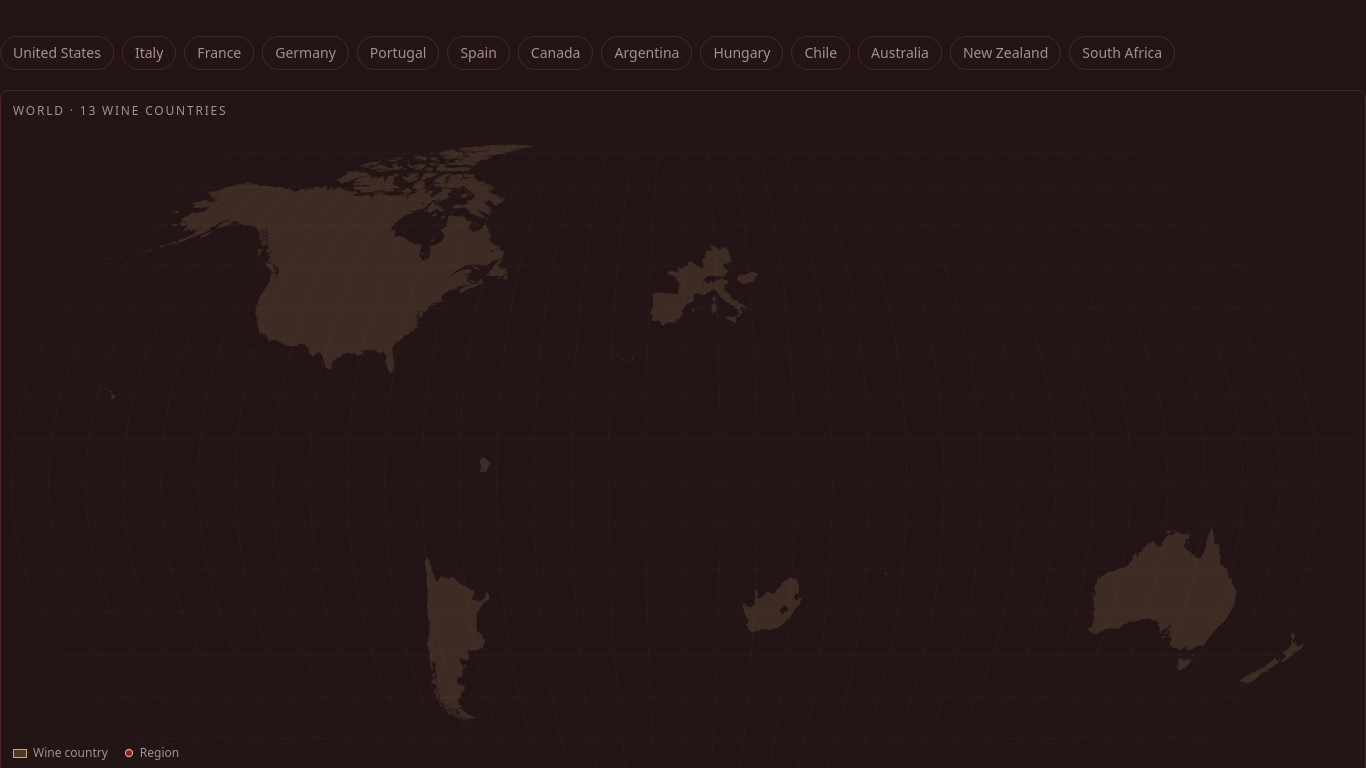
Test case: RegionsChapter › opens a region from the drawer list and steps back with Escape
Step 1. Click the button "France" → (219, 53), box [184, 36, 254, 70]
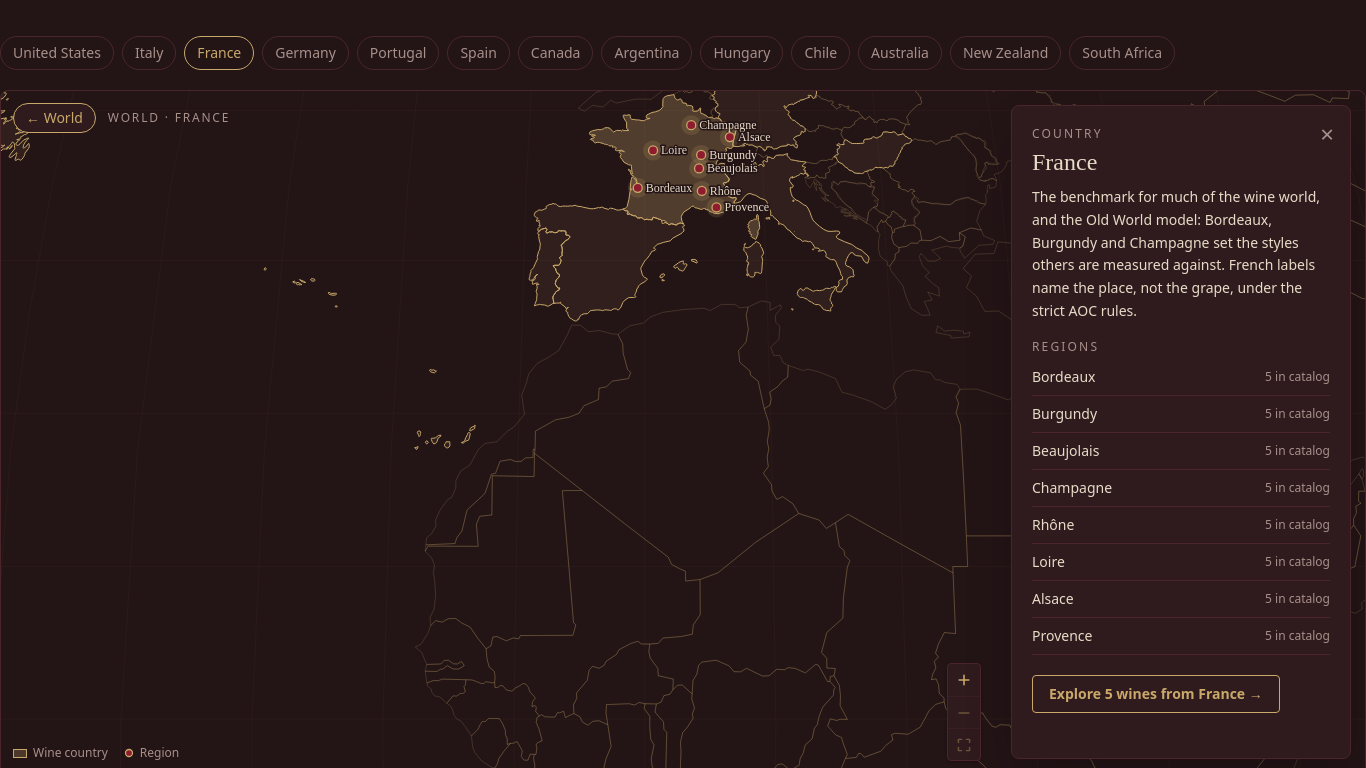
Step 2. Click the button "Bordeaux 5 in catalog" → (1064, 376), box [1032, 358, 1330, 394]
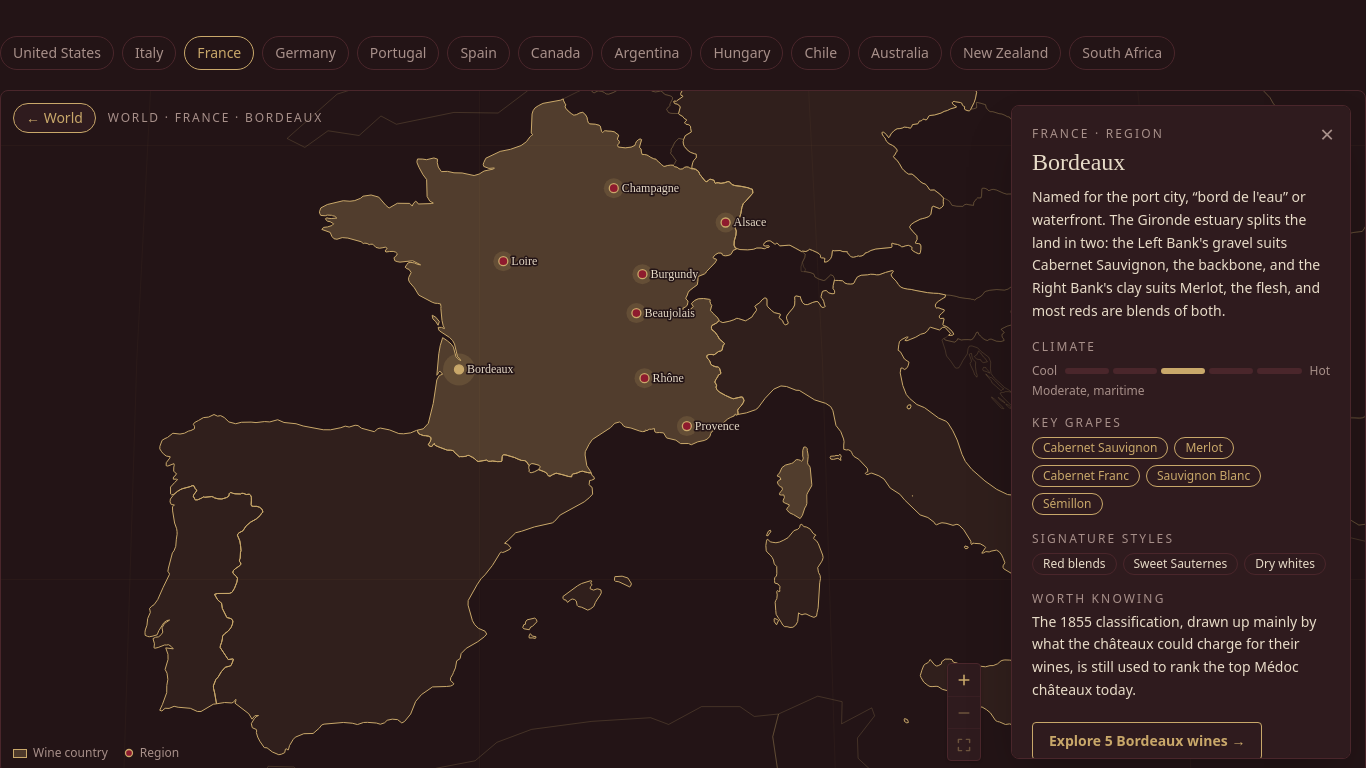
expect the element named "Bordeaux details" is shown: met, box [1011, 105, 1351, 759]
expect the text with test id "map-breadcrumb" reads "World · France · Bordeaux": met, box [108, 109, 323, 126]
Step 3. Press Escape
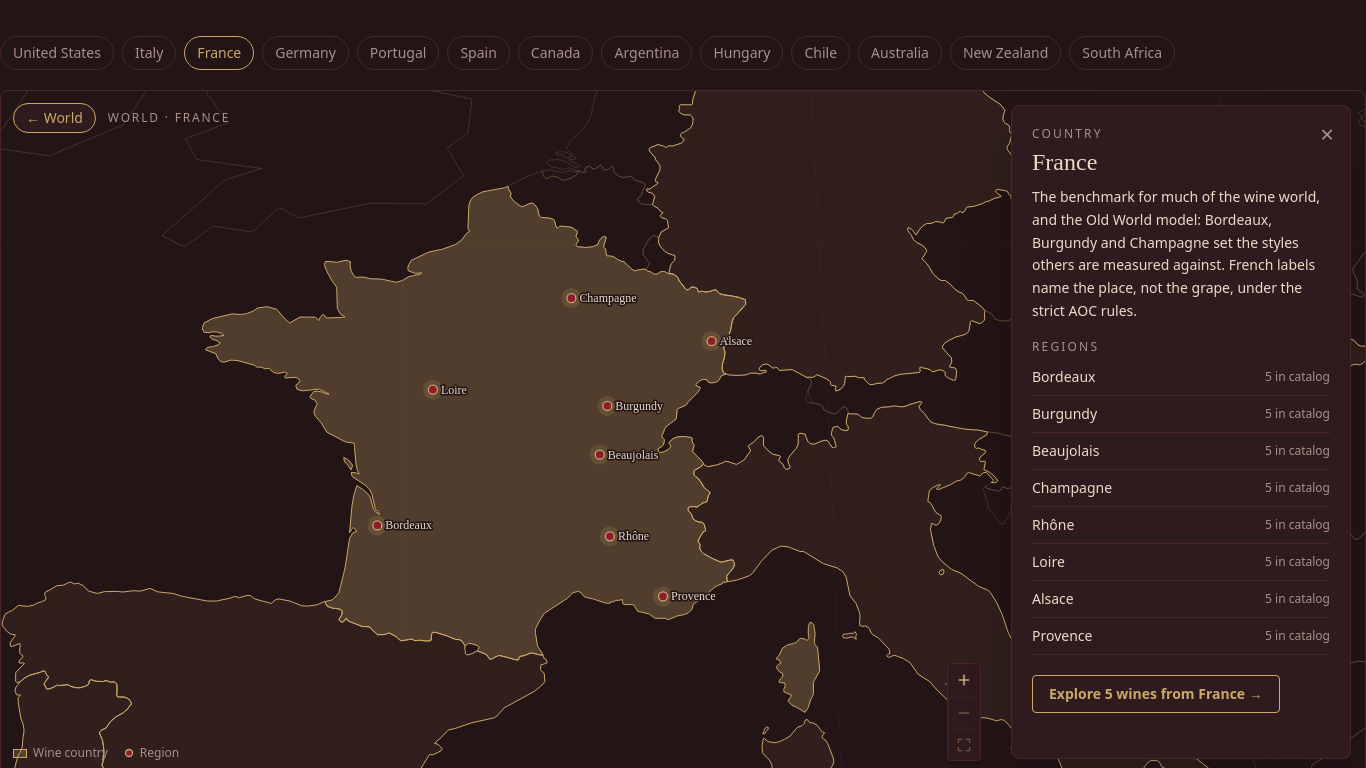
Step 4. Press Escape
(page scrolled)
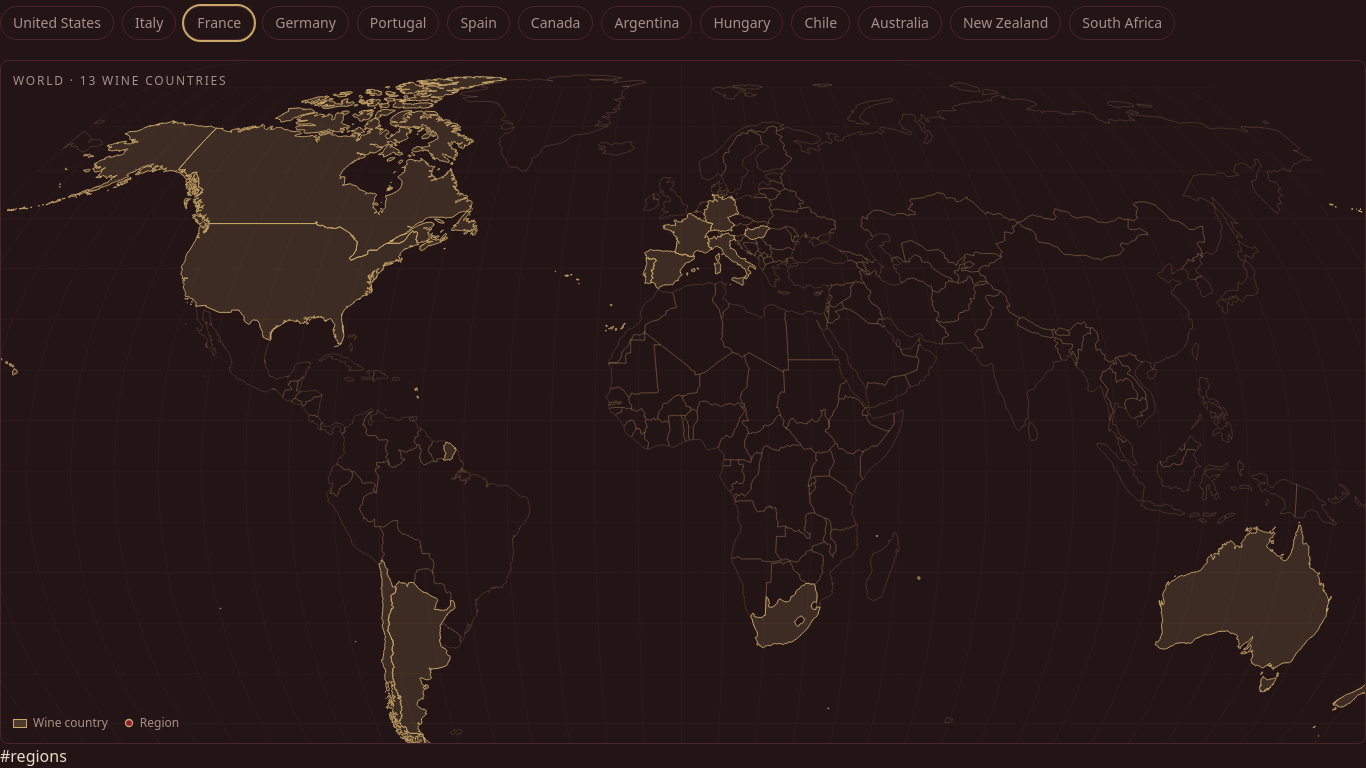
expect the text with test id "map-breadcrumb" reads "World · 13 wine countries": met, box [13, 72, 228, 89]
expect the text with test id "hash" reads "#regions": met, box [0, 745, 67, 767]
